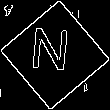N_S: (33, 28, 77, 82)
